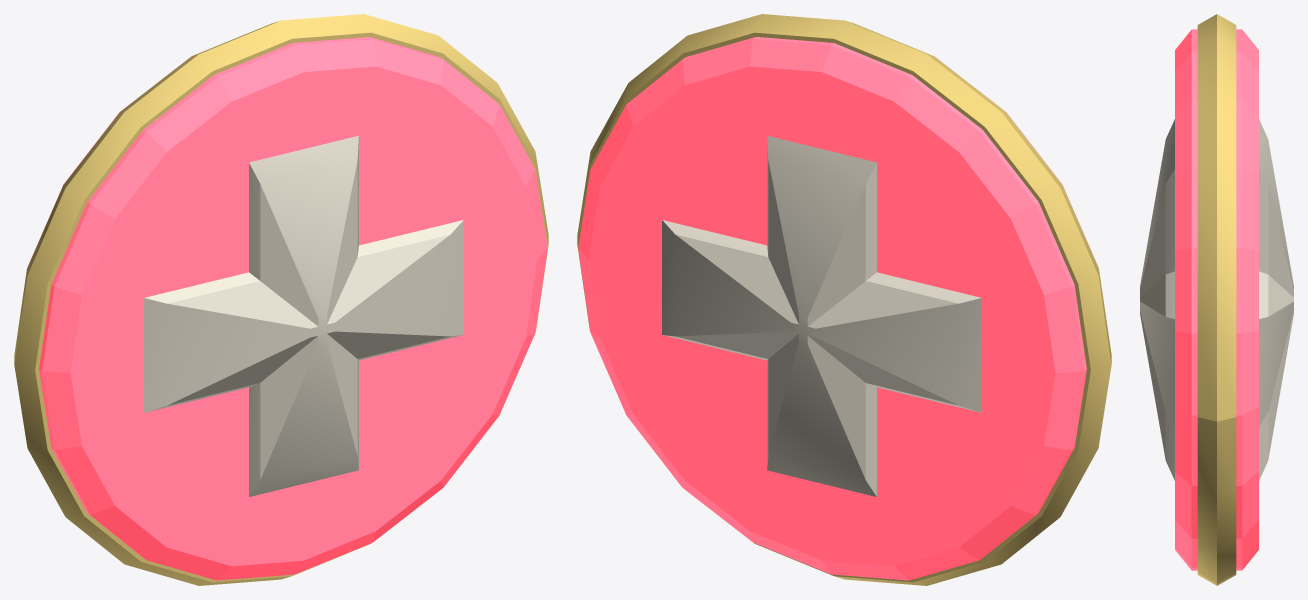
The model's file is pickups-and-collectibles-health-cross-8a1140c8.glb.
3 renders of one model, left to right at view 1: azimuth 30°, elevation 25°; view 2: azimuth 150°, elevation 25°; view 3: azimuth 270°, elevation 25°, orthographic. The views are drawn at different scales.
Visible parts, largest first — view 1: body/ruby, body/bone, body/gold; view 2: body/ruby, body/bone, body/gold; view 3: body/ruby, body/gold, body/bone.
Part boxes in pixels (x1=…): body/ruby: x1=27, y1=37, x2=547, y2=580; body/bone: x1=144, y1=135, x2=463, y2=496; body/gold: x1=14, y1=14, x2=548, y2=585; body/ruby: x1=578, y1=37, x2=1098, y2=580; body/bone: x1=662, y1=135, x2=981, y2=496; body/gold: x1=577, y1=14, x2=1111, y2=585; body/ruby: x1=1175, y1=29, x2=1258, y2=570; body/gold: x1=1197, y1=14, x2=1236, y2=585; body/bone: x1=1140, y1=119, x2=1293, y2=480.
Bounding box in the file's own units: 0.412 × 0.412 × 0.11.
